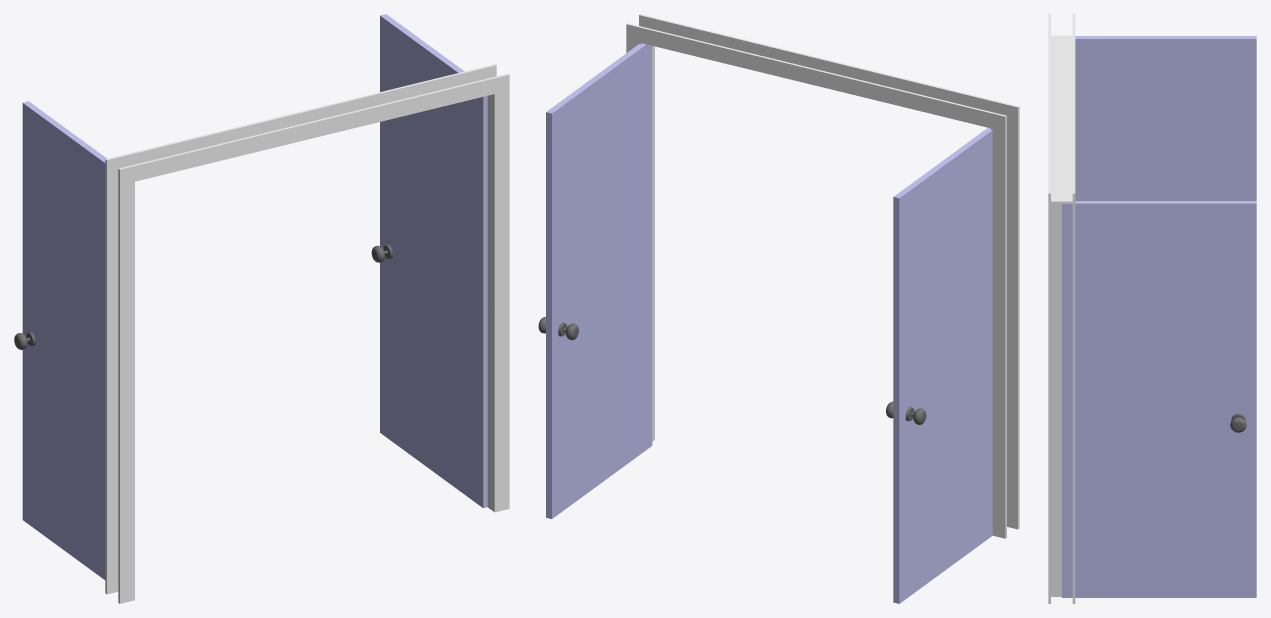
File: doors.dae
The picture shows the model from 3 angles, left to right: view 1: azimuth 30°, elevation 25°; view 2: azimuth 150°, elevation 25°; view 3: azimuth 270°, elevation 25°; orthographic projection. The views are drawn at different scales.
Visible parts, largest first — view 1: group_2, group_0, Casing, Casing_copy_004, Casing_copy_002, Casing_copy_001, Casing_copy_003, Jam; view 2: group_2, group_0, Casing_copy_001, Casing_copy_003, Casing, Casing_copy_002, Casing_copy_004, Jam; view 3: group_2, group_0, Jam, Wall, Casing_copy_005, Casing_copy_004, Casing_copy_003, Casing_copy_002.
Part boxes in pixels (bbox=[...]): group_2: bbox=[380, 14, 487, 508]; group_0: bbox=[22, 101, 106, 579]; Casing: bbox=[118, 165, 134, 603]; Casing_copy_004: bbox=[493, 73, 509, 512]; Casing_copy_002: bbox=[134, 77, 494, 181]; Casing_copy_001: bbox=[105, 155, 121, 594]; Casing_copy_003: bbox=[121, 67, 481, 167]; Jam: bbox=[487, 94, 493, 510]; group_2: bbox=[546, 43, 652, 518]; group_0: bbox=[893, 128, 992, 603]; Casing_copy_001: bbox=[991, 112, 1006, 538]; Casing_copy_003: bbox=[641, 27, 991, 128]; Casing: bbox=[1003, 103, 1019, 529]; Casing_copy_002: bbox=[653, 17, 1004, 114]; Casing_copy_004: bbox=[639, 14, 654, 440]; Jam: bbox=[652, 46, 653, 441]; group_2: bbox=[1062, 201, 1256, 597]; group_0: bbox=[1075, 36, 1256, 200]; Jam: bbox=[1051, 201, 1072, 596]; Wall: bbox=[1051, 35, 1072, 201]; Casing_copy_005: bbox=[1072, 187, 1075, 603]; Casing_copy_004: bbox=[1048, 187, 1050, 603]; Casing_copy_003: bbox=[1072, 21, 1075, 186]; Casing_copy_002: bbox=[1048, 21, 1050, 186].
Bounding box in the file's own units: 78.75 × 38.25 × 83.
